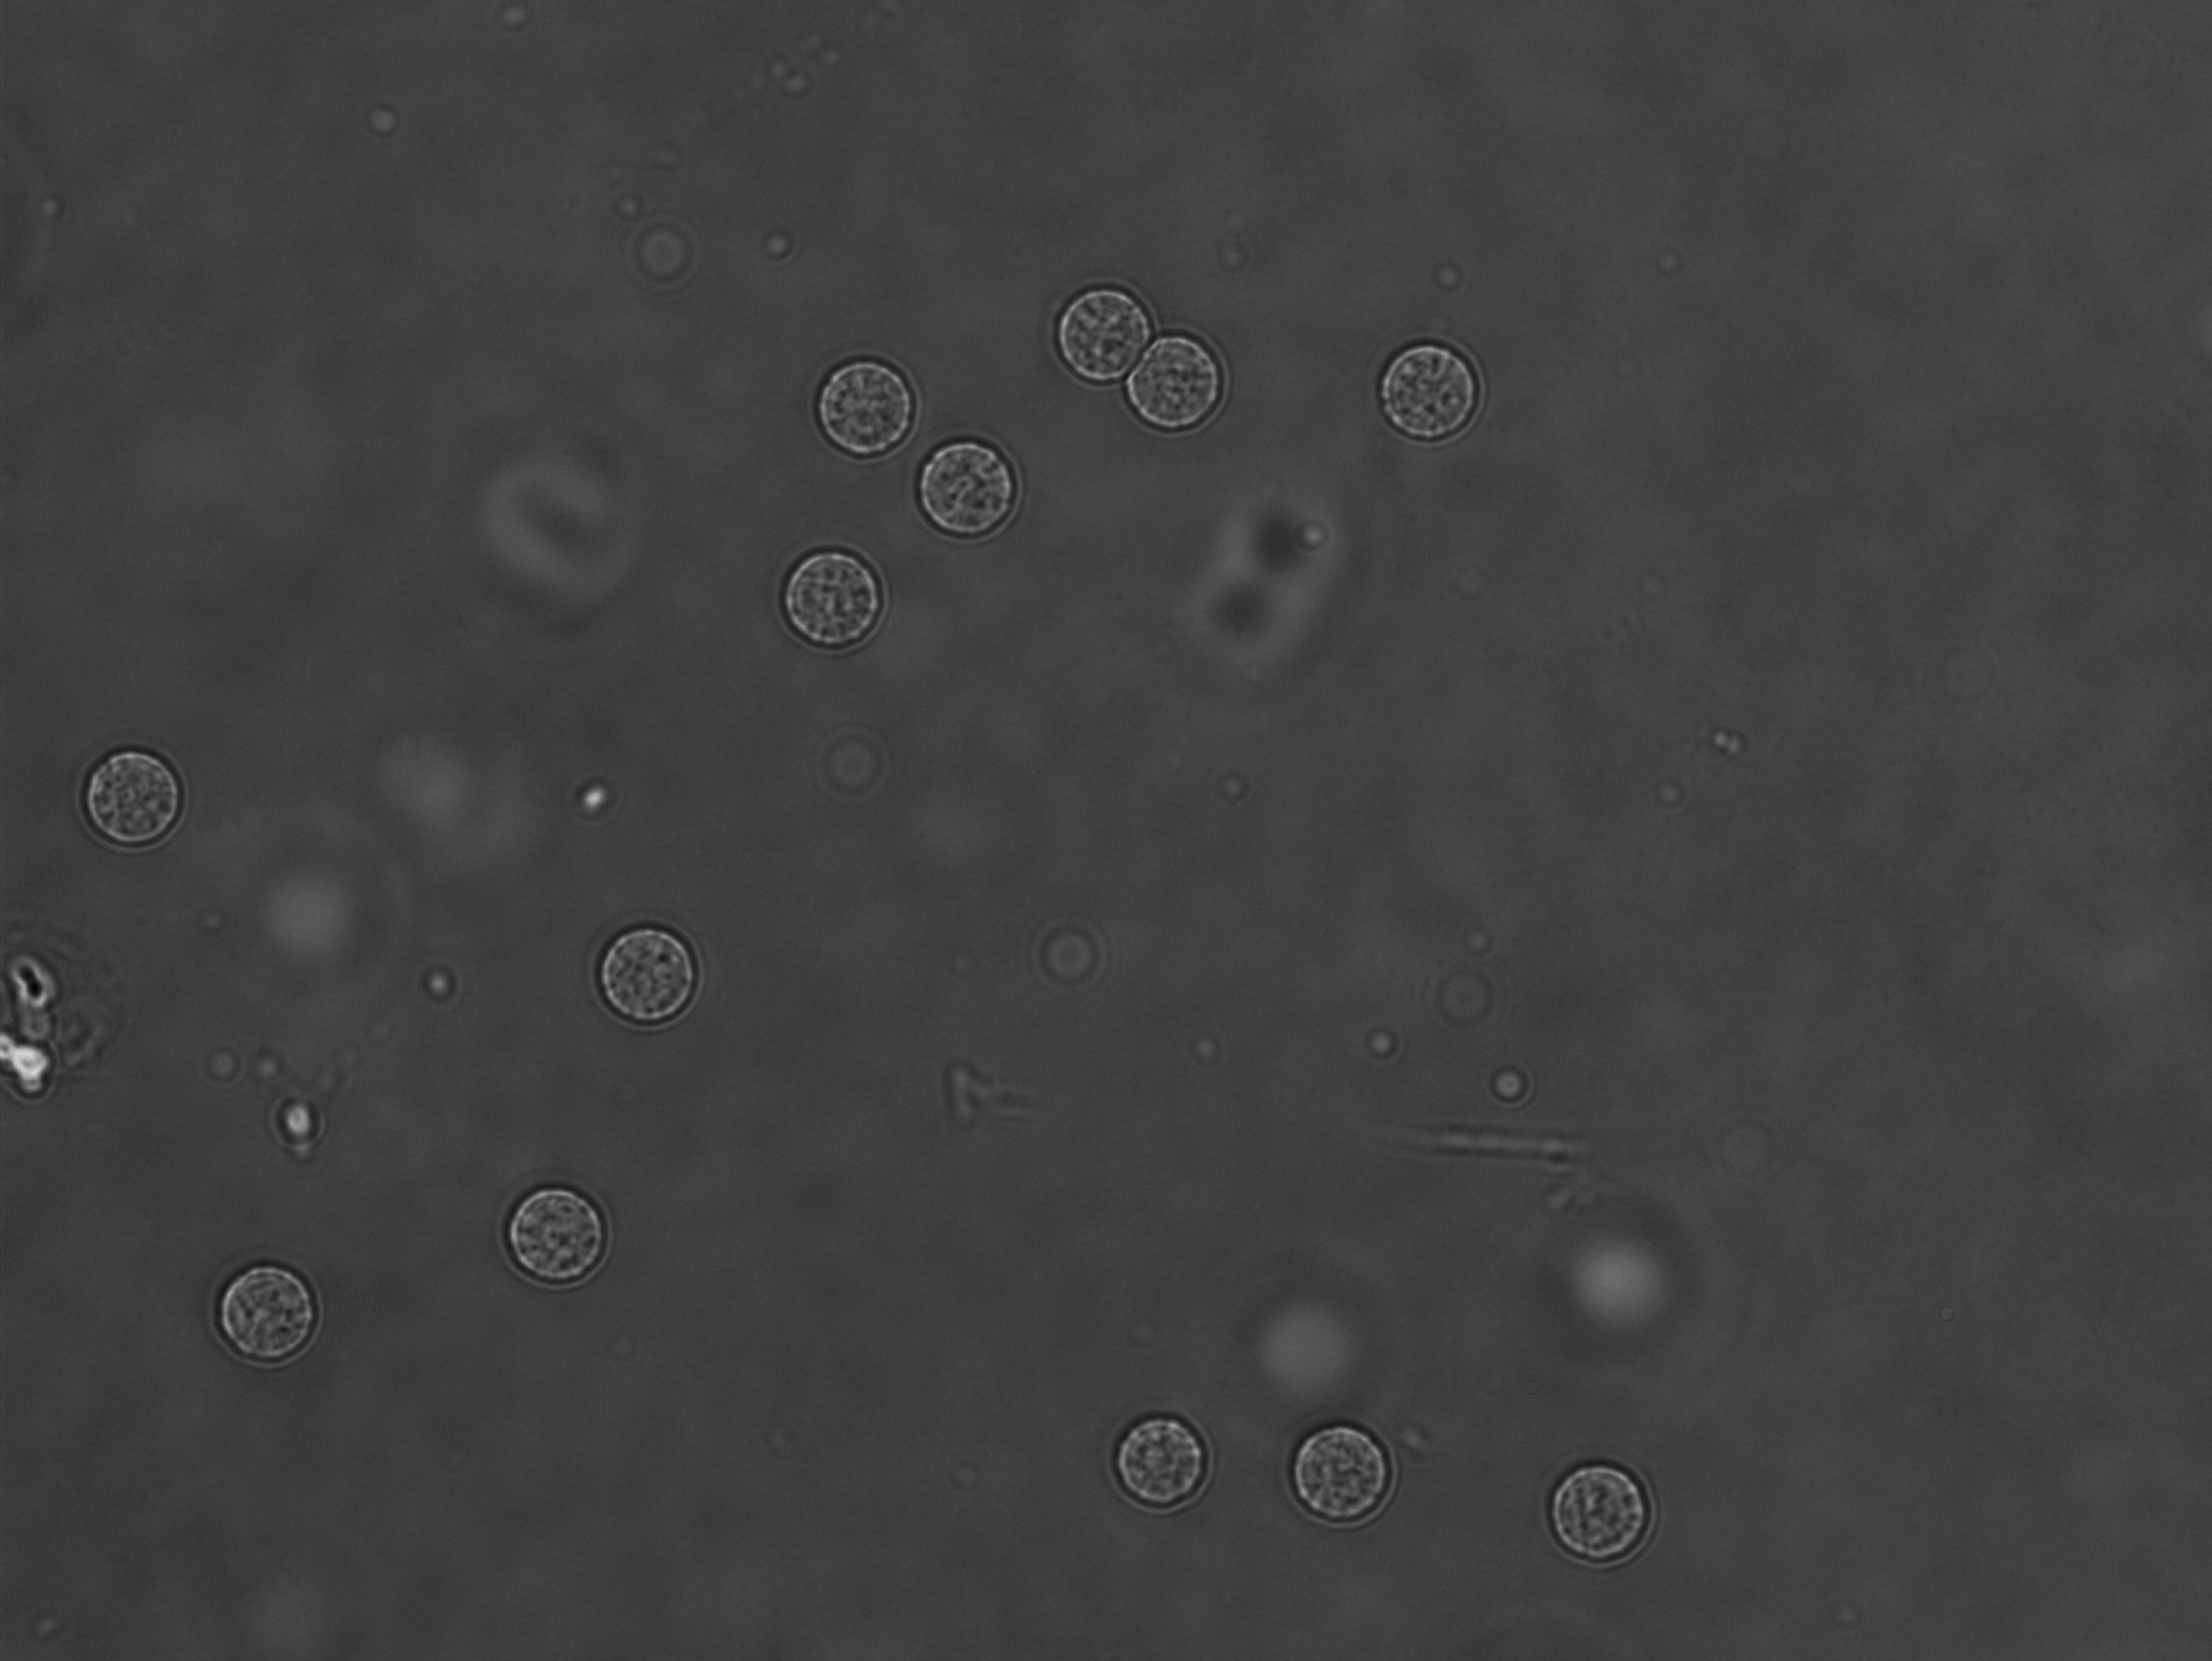depth:0: (195, 1230, 354, 1403), (473, 1179, 652, 1312), (761, 530, 930, 660), (1537, 1424, 1685, 1570), (584, 913, 736, 1054), (1085, 1389, 1230, 1535), (1275, 1394, 1413, 1541), (886, 438, 1036, 567), (1041, 265, 1179, 403), (77, 722, 208, 865), (1371, 319, 1500, 459), (1123, 325, 1251, 450), (808, 338, 921, 468)
